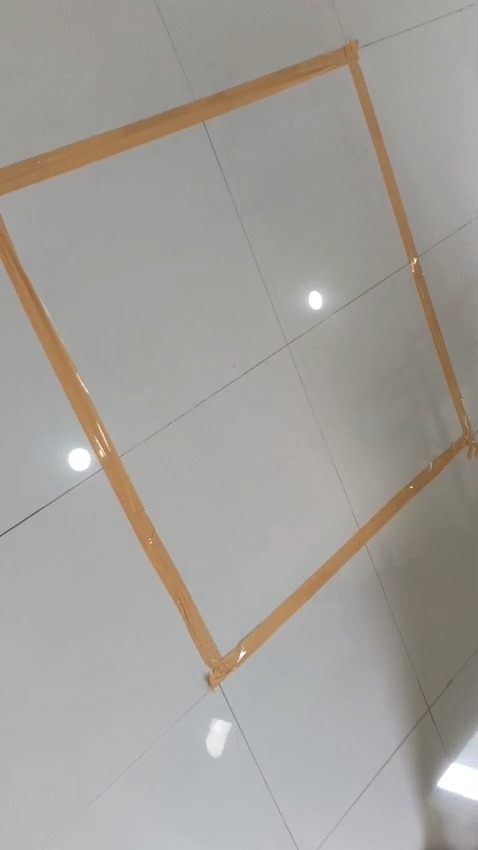floor marking: (0, 41, 476, 686)
